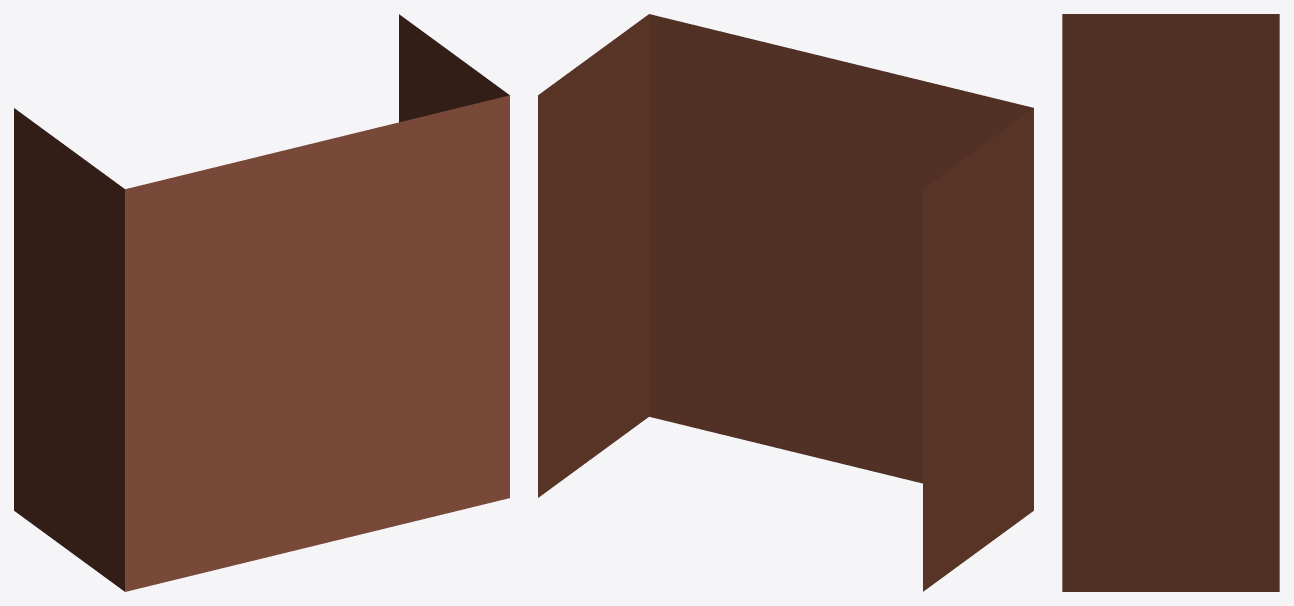
File: wall_medium.glb
The picture shows the model from 3 angles, left to right: view 1: azimuth 30°, elevation 25°; view 2: azimuth 150°, elevation 25°; view 3: azimuth 270°, elevation 25°; orthographic projection. The views are drawn at different scales.
Visible parts, largest first — view 1: wall_medium; view 2: wall_medium; view 3: wall_medium.
Part boxes in pixels (<box>): wall_medium: <box>14,14,509,591</box>; wall_medium: <box>538,14,1033,591</box>; wall_medium: <box>1062,14,1279,591</box>.
Size of the model in its own units: 2 by 2 by 1.
1 material, 1 textured.
